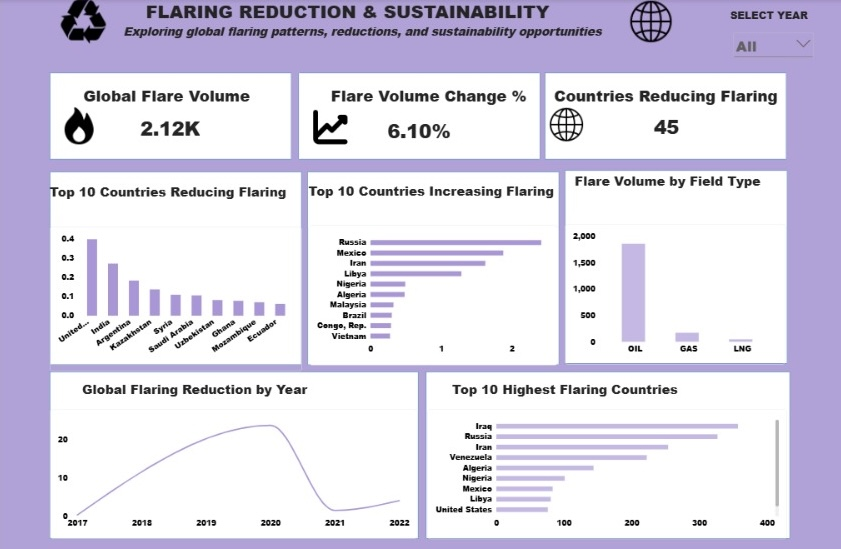

What the dashboard file says about the page in this screenshot:
{"tool":"powerbi","page":{"name":"Page 3","canvas":[1920,1200],"ordinal":2},"visuals":[{"type":"shape","box":[633.2,156.1,513,183.7],"z":0},{"type":"shape","box":[105.7,156.1,513,183.7],"z":1000},{"type":"shape","box":[1155.5,156.1,513,183.7],"z":2000},{"type":"textbox","box":[80.7,280,300,150],"z":3000},{"type":"textbox","box":[310.2,0,1105.5,66.3],"z":4000},{"type":"shape","box":[1198,363.4,472.4,410.4],"z":5000},{"type":"shape","box":[104.9,365,534.4,410.4],"z":6000},{"type":"shape","box":[651.3,365,534.4,410.4],"z":7000},{"type":"shape","box":[105.7,789.7,782.1,355.2],"z":8000},{"type":"shape","box":[902.8,789.2,772.2,354.9],"z":9000},{"type":"slicer","fields":{"Values":["Table2_1.Year"]},"box":[1550.8,66.3,180.3,71.6],"z":10000},{"type":"cardVisual","fields":{"Data":["Sum(Table2_1.Flare Volume)"]},"box":[105.7,209.1,511.6,129.9],"z":11000},{"type":"textbox","box":[177.3,182.6,440.1,66.3],"z":12000},{"type":"cardVisual","fields":{"Data":["Table2_1.Flare Volume Change %"]},"box":[633.6,214.7,511.6,129.9],"z":13000},{"type":"cardVisual","fields":{"Data":["Table2_1.Countries Reducing Flaring"]},"box":[1158.5,206.8,511.6,129.9],"z":14000},{"type":"textbox","box":[702.5,182.9,442.7,66.3],"z":15000},{"type":"textbox","box":[1158.5,182.9,509,90.1],"z":16000},{"type":"clusteredColumnChart","fields":{"Category":["Table2_1.Country"],"Y":["Table2_1.Flare Reduction"]},"box":[106,482.5,535.5,307.5],"z":17000},{"type":"clusteredBarChart","fields":{"Category":["Table2_1.Country"],"Y":["Table2_1.Flare Increase"]},"box":[654.8,479.8,530.2,296.9],"z":18000},{"type":"textbox","box":[654.8,388.3,530.1,93.5],"z":19000},{"type":"textbox","box":[105,388.9,536.5,90.8],"z":20000},{"type":"lineChart","fields":{"Y":["Table2_1.Flare Reduction"],"Category":["Table2_1.Year"]},"box":[105,868.7,780.7,275.4],"z":21000},{"type":"textbox","box":[176,809.1,712.6,85.2],"z":22000},{"type":"clusteredColumnChart","fields":{"Category":["Table2_1.Field Type"],"Y":["Sum(Table2_1.Flare Volume)"]},"box":[1198,476.9,468.4,298.1],"z":23000},{"type":"textbox","box":[1220.7,366.2,445.7,110.7],"z":24000},{"type":"textbox","box":[959.5,809.1,706.9,85.2],"z":25000},{"type":"clusteredBarChart","fields":{"Category":["Table2_1.Country"],"Y":["Sum(Table2_1.Flare Volume)"]},"box":[906.6,869.5,763.5,275.7],"z":26000},{"type":"textbox","box":[1513.7,18.6,379.1,47.7],"z":27000},{"type":"textbox","box":[262.5,50.4,1110.8,87.5],"z":28000},{"type":"image","box":[106,228,124.6,82.2],"z":28001},{"type":"image","box":[1158.5,228,87.5,76.9],"z":28002},{"type":"image","box":[127.2,0,100.7,95.4],"z":28003},{"type":"image","box":[649.5,228,103.4,87.5],"z":28004},{"type":"image","box":[1304.3,0,153.8,95.4],"z":28005}]}

Visuals, with their boxes on the page's 1920x1200 design canvas (x1, y1, x2, y2). These are canvas units, not pixel positions in the 841x549 screenshot, which may show the page scaled, cropped or inside an application window:
shape: 633:156:1146:340
shape: 106:156:619:340
shape: 1156:156:1668:340
textbox: 81:280:381:430
textbox: 310:0:1416:66
shape: 1198:363:1670:774
shape: 105:365:639:775
shape: 651:365:1186:775
shape: 106:790:888:1145
shape: 903:789:1675:1144
slicer - Table2_1.Year: 1551:66:1731:138
cardVisual - Sum(Table2_1.Flare Volume): 106:209:617:339
textbox: 177:183:617:249
cardVisual - Table2_1.Flare Volume Change %: 634:215:1145:345
cardVisual - Table2_1.Countries Reducing Flaring: 1158:207:1670:337
textbox: 702:183:1145:249
textbox: 1158:183:1668:273
clusteredColumnChart - Table2_1.Country x Table2_1.Flare Reduction: 106:482:642:790
clusteredBarChart - Table2_1.Country x Table2_1.Flare Increase: 655:480:1185:777
textbox: 655:388:1185:482
textbox: 105:389:642:480
lineChart - Table2_1.Flare Reduction x Table2_1.Year: 105:869:886:1144
textbox: 176:809:889:894
clusteredColumnChart - Table2_1.Field Type x Sum(Table2_1.Flare Volume): 1198:477:1666:775
textbox: 1221:366:1666:477
textbox: 960:809:1666:894
clusteredBarChart - Table2_1.Country x Sum(Table2_1.Flare Volume): 907:870:1670:1145
textbox: 1514:19:1893:66
textbox: 262:50:1373:138
image: 106:228:231:310
image: 1158:228:1246:305
image: 127:0:228:95
image: 650:228:753:316
image: 1304:0:1458:95
